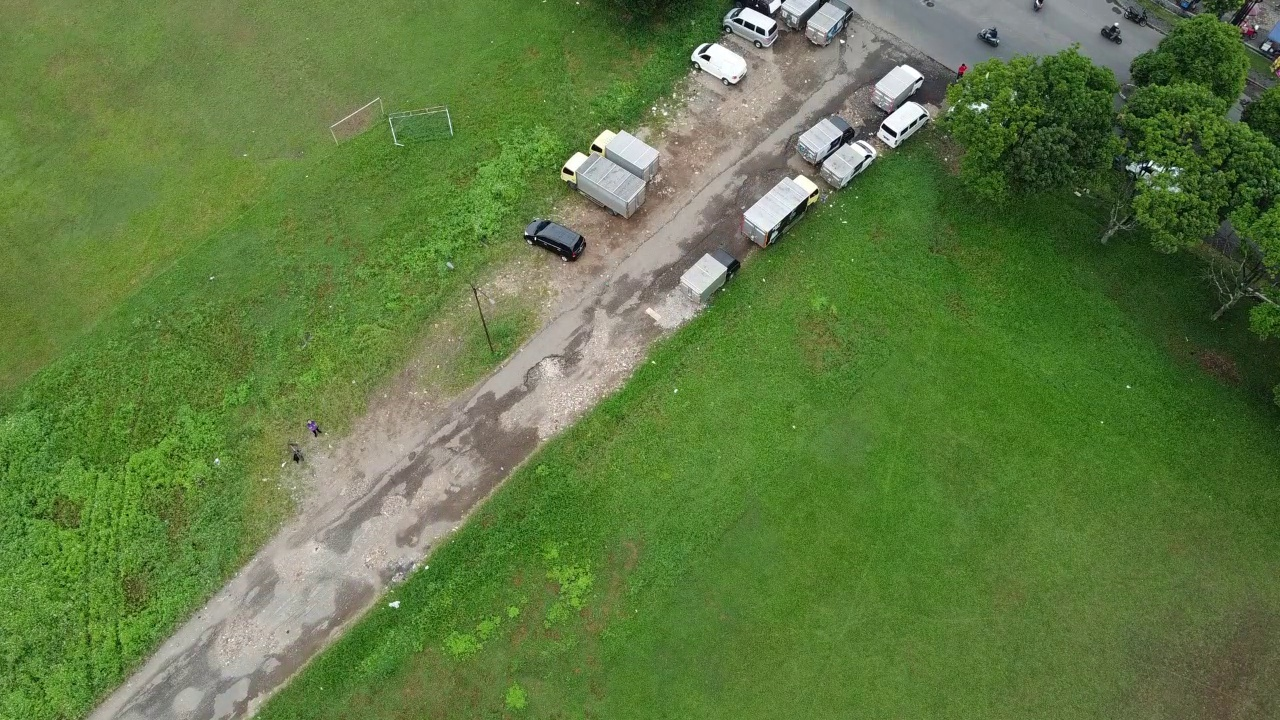mobil: (687, 34, 754, 91), (515, 214, 591, 264), (720, 5, 787, 54), (880, 96, 933, 149)
